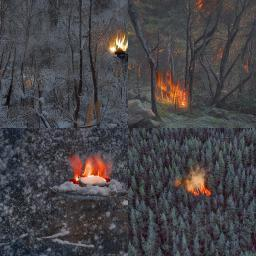Small fire: (72, 147, 114, 190), (160, 70, 190, 114)
